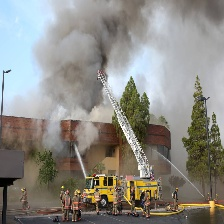smoke: (32, 1, 224, 141)
